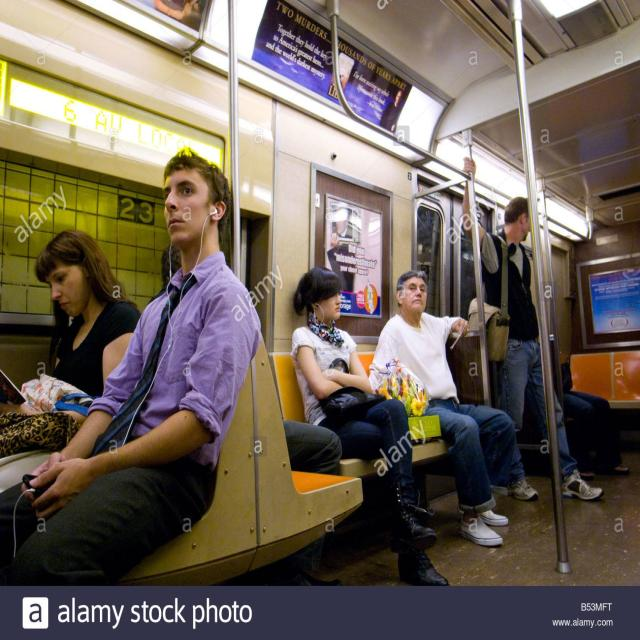body: (0, 147, 262, 586), (146, 241, 344, 586), (290, 265, 452, 587), (460, 155, 605, 503), (0, 224, 142, 575), (364, 266, 520, 550), (552, 385, 632, 486), (324, 207, 362, 296)
